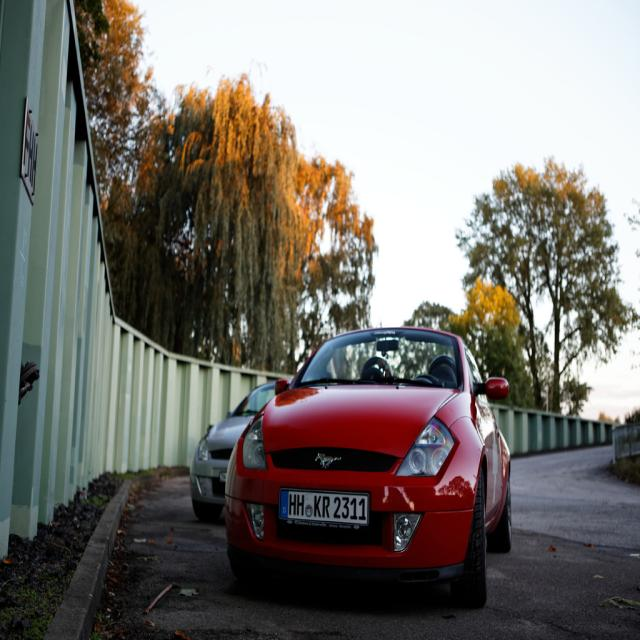car: (223, 321, 515, 607)
